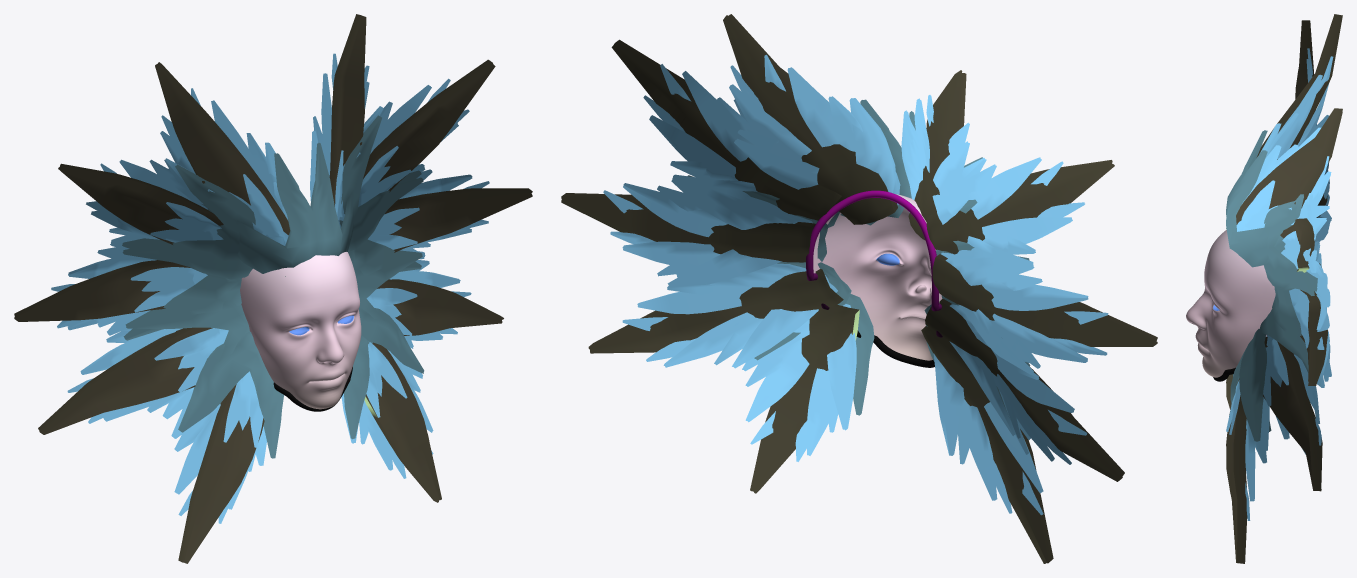
Rendered from Mask_Normal6.glb.
The picture shows the model from 3 angles, left to right: view 1: azimuth 30°, elevation 25°; view 2: azimuth 150°, elevation 25°; view 3: azimuth 270°, elevation 25°; orthographic projection. The views are drawn at different scales.
Parts seen in each view (by area): view 1: BézierCurve.001, Female Average Head; view 2: BézierCurve.001, Female Average Head; view 3: BézierCurve.001, Female Average Head.
Part boxes in pixels (x1=…): BézierCurve.001: x1=14, y1=14, x2=532, y2=563; Female Average Head: x1=240, y1=252, x2=361, y2=411; BézierCurve.001: x1=561, y1=14, x2=1157, y2=563; Female Average Head: x1=806, y1=190, x2=942, y2=367; BézierCurve.001: x1=1226, y1=14, x2=1342, y2=563; Female Average Head: x1=1186, y1=230, x2=1275, y2=381.
Bounding box in the file's own units: 0.6544 × 0.5562 × 0.1782.
Materials: 2 (2 with a texture image).
